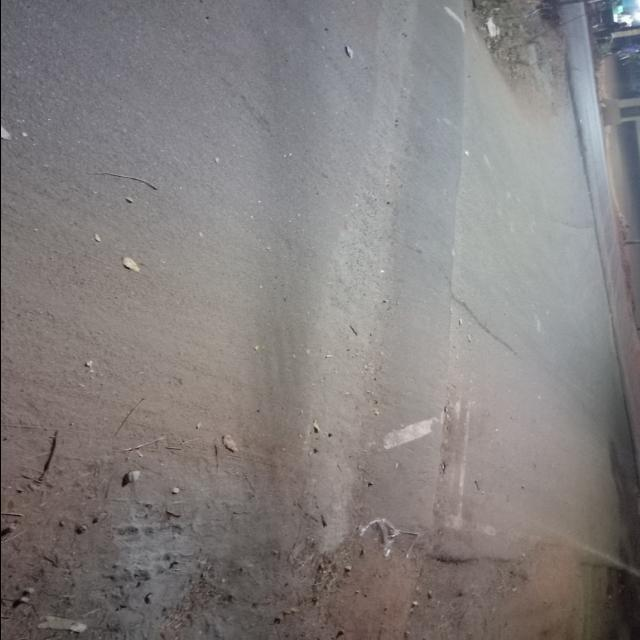speedbreaker: (348, 4, 481, 547)
